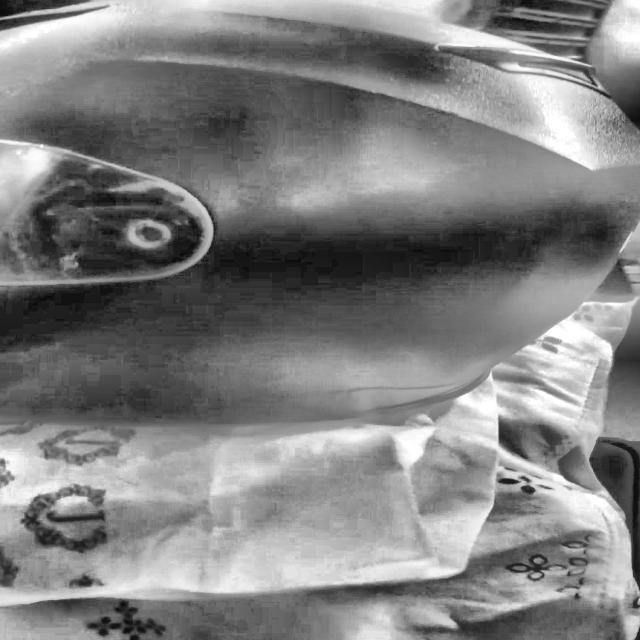Helmet: (0, 0, 640, 431)
